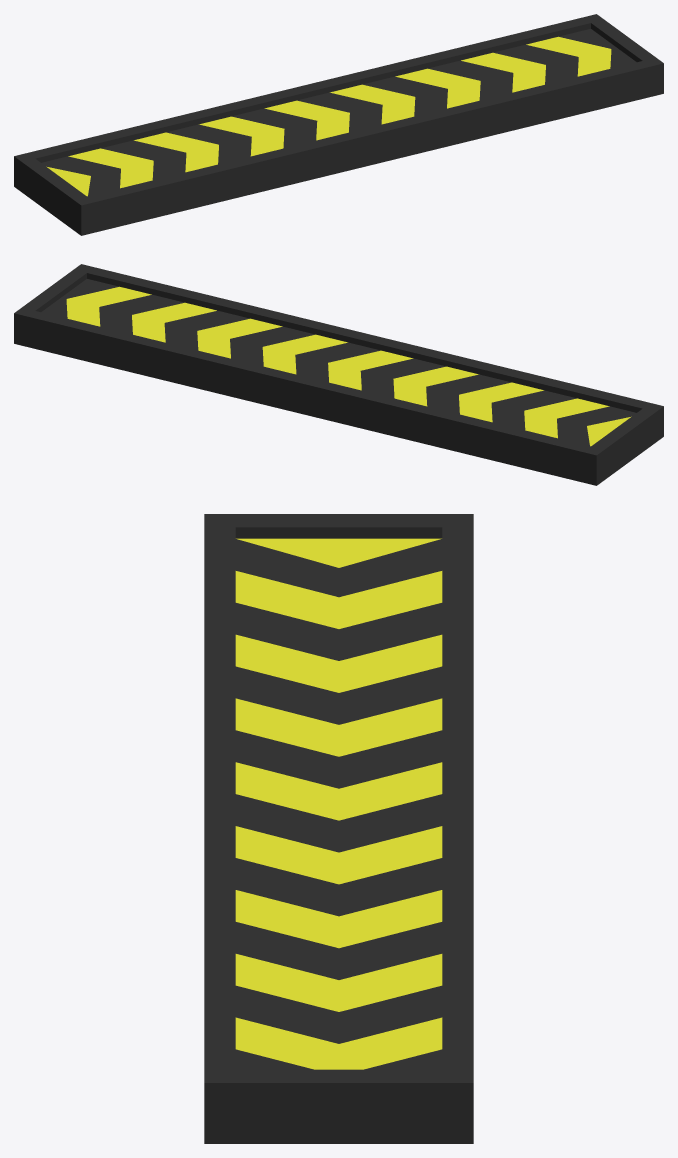
The model's file is TrackArrowPanel.fbx.
3 renders of one model, top to bottom at view 1: azimuth 30°, elevation 25°; view 2: azimuth 150°, elevation 25°; view 3: azimuth 270°, elevation 25°, orthographic. The views are drawn at different scales.
Parts seen in each view (by area): view 1: TrackArrowPanel; view 2: TrackArrowPanel; view 3: TrackArrowPanel.
Part boxes in pixels (box(x1,y1,x2,y2)): TrackArrowPanel: box(14, 14, 663, 235); TrackArrowPanel: box(14, 264, 663, 485); TrackArrowPanel: box(204, 514, 473, 1143).
Size of the model in its own units: 20 by 4 by 1.
